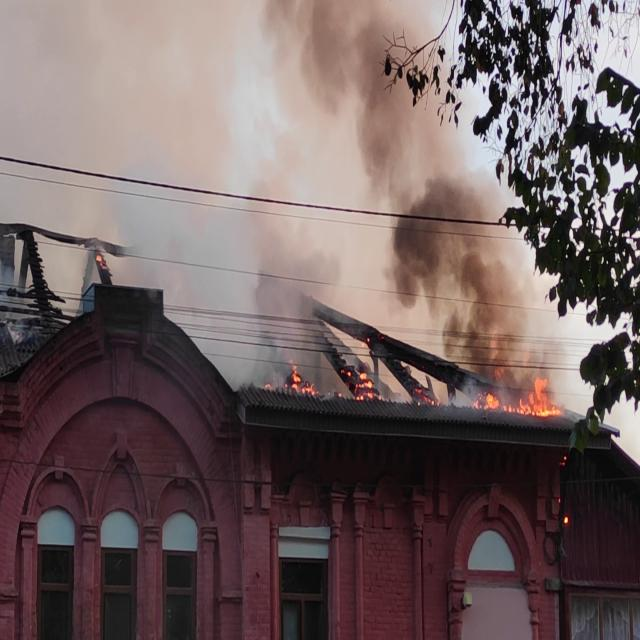fire: (502, 381, 559, 415), (344, 370, 386, 404)
smoke: (394, 180, 480, 290), (178, 220, 245, 333)
